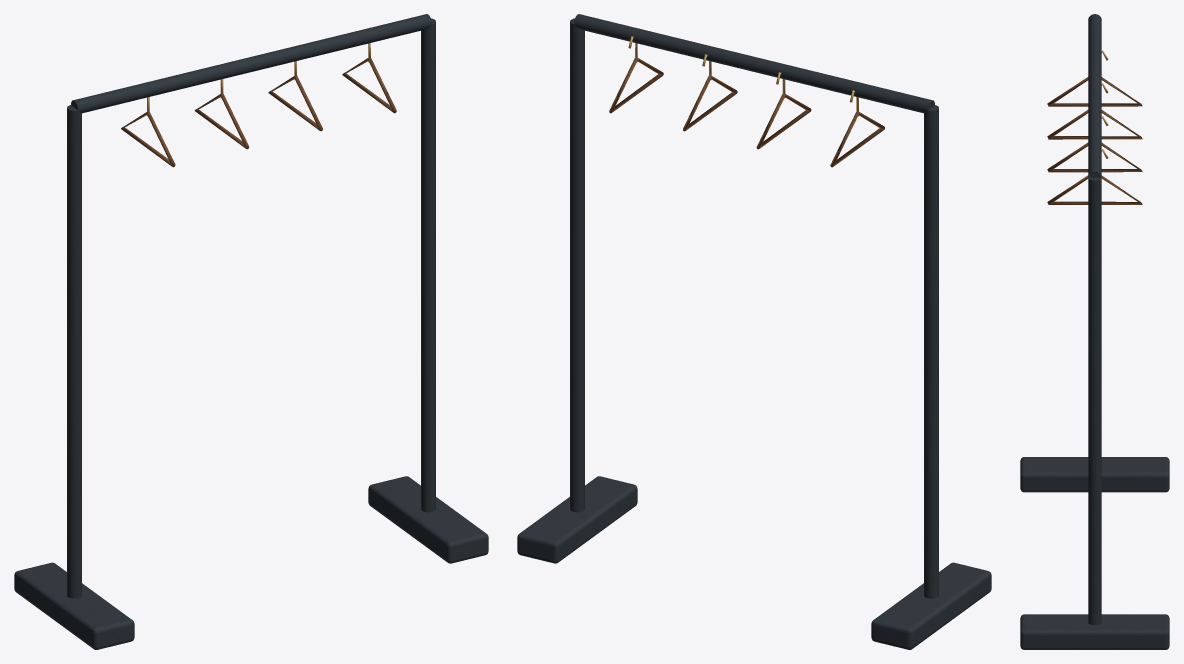
3 renders of one model, left to right at view 1: azimuth 30°, elevation 25°; view 2: azimuth 150°, elevation 25°; view 3: azimuth 270°, elevation 25°, orthographic. The views are drawn at different scales.
Parts seen in each view (by area): view 1: Clothes rail upright, Clothes rail upright.001, Clothes hanging bar, Rail stable foot, Rail stable foot.001; view 2: Clothes rail upright, Clothes rail upright.001, Clothes hanging bar, Rail stable foot, Rail stable foot.001; view 3: Clothes rail upright.001, Rail stable foot.001, Rail stable foot, Clothes hanging bar, Original hanger frame, Original hanger frame.001, Original hanger frame.002, Original hanger frame.003.
Boxes of the visible parts, left/top/right/bottom form: Clothes rail upright: left=67, top=105, right=81, bottom=598; Clothes rail upright.001: left=421, top=18, right=435, bottom=512; Clothes hanging bar: left=71, top=14, right=431, bottom=113; Rail stable foot: left=14, top=562, right=134, bottom=649; Rail stable foot.001: left=368, top=476, right=488, bottom=563; Clothes rail upright: left=924, top=105, right=938, bottom=598; Clothes rail upright.001: left=570, top=18, right=584, bottom=512; Clothes hanging bar: left=574, top=14, right=934, bottom=113; Rail stable foot: left=871, top=562, right=991, bottom=649; Rail stable foot.001: left=517, top=476, right=637, bottom=563; Clothes rail upright.001: left=1088, top=177, right=1101, bottom=625; Rail stable foot.001: left=1020, top=614, right=1169, bottom=649; Rail stable foot: left=1020, top=457, right=1169, bottom=492; Clothes hanging bar: left=1088, top=14, right=1101, bottom=177; Original hanger frame: left=1047, top=77, right=1142, bottom=106; Original hanger frame.001: left=1047, top=110, right=1142, bottom=139; Original hanger frame.002: left=1047, top=142, right=1142, bottom=172; Original hanger frame.003: left=1047, top=175, right=1142, bottom=204.
Size of the model in its own units: 1.34 by 1.67 by 0.48.
Materials: 3 (3 with a texture image).
